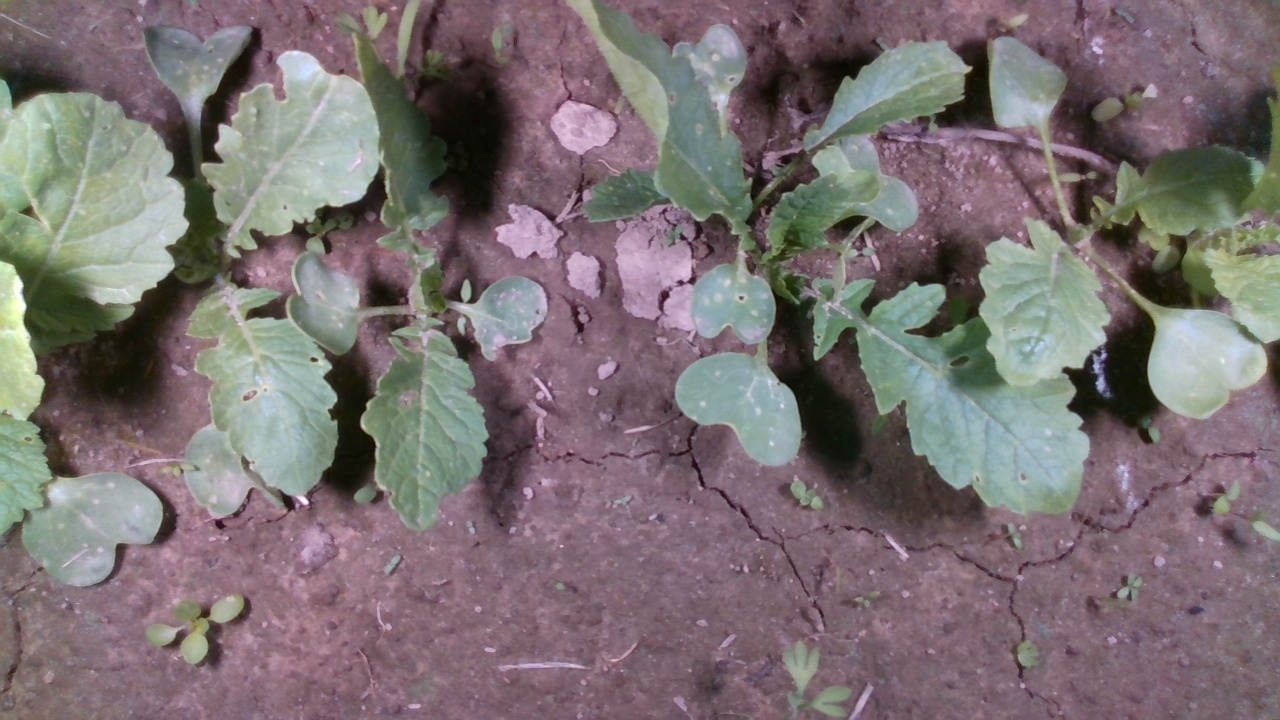weed: (136, 592, 247, 669), (786, 478, 826, 512), (1115, 571, 1143, 605), (1005, 520, 1023, 552), (382, 553, 402, 577)
